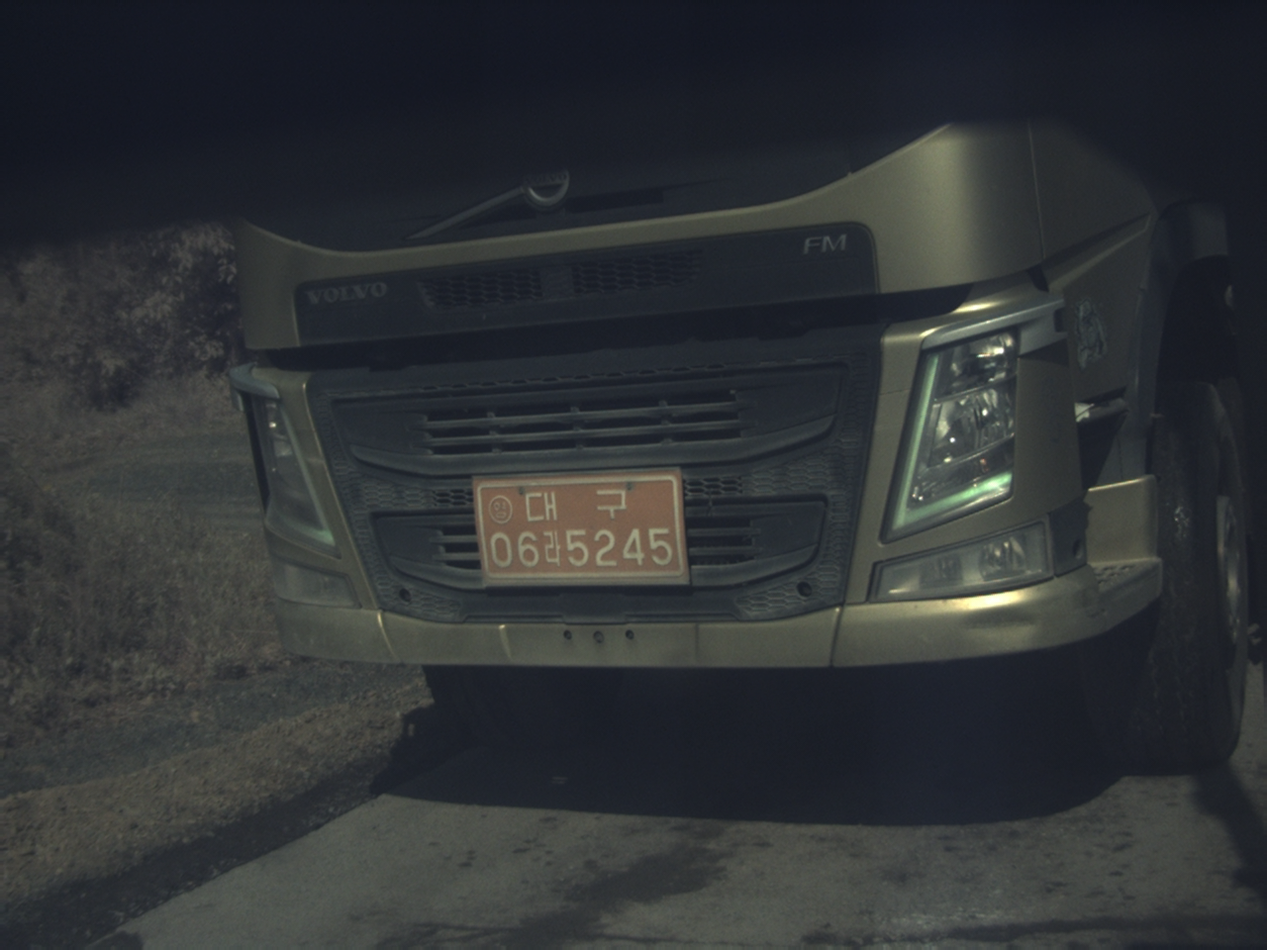license_plate: (473, 471, 688, 584)
truck: (233, 122, 1250, 768)
